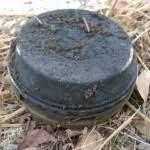pmn: (5, 7, 139, 129)
